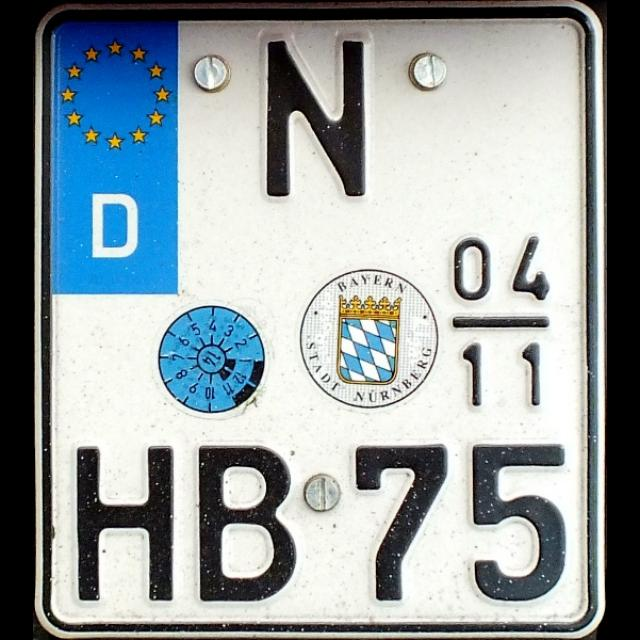d_license_plate: (42, 9, 592, 631)
